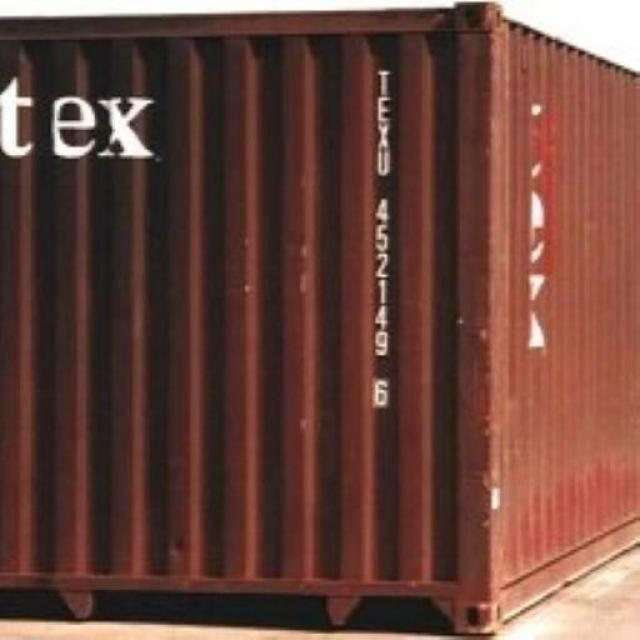container_number: (364, 57, 400, 412)
